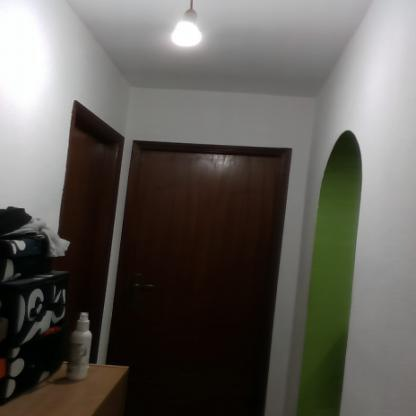door: (126, 143, 264, 415), (66, 130, 115, 365)
lever: (134, 282, 156, 292)
